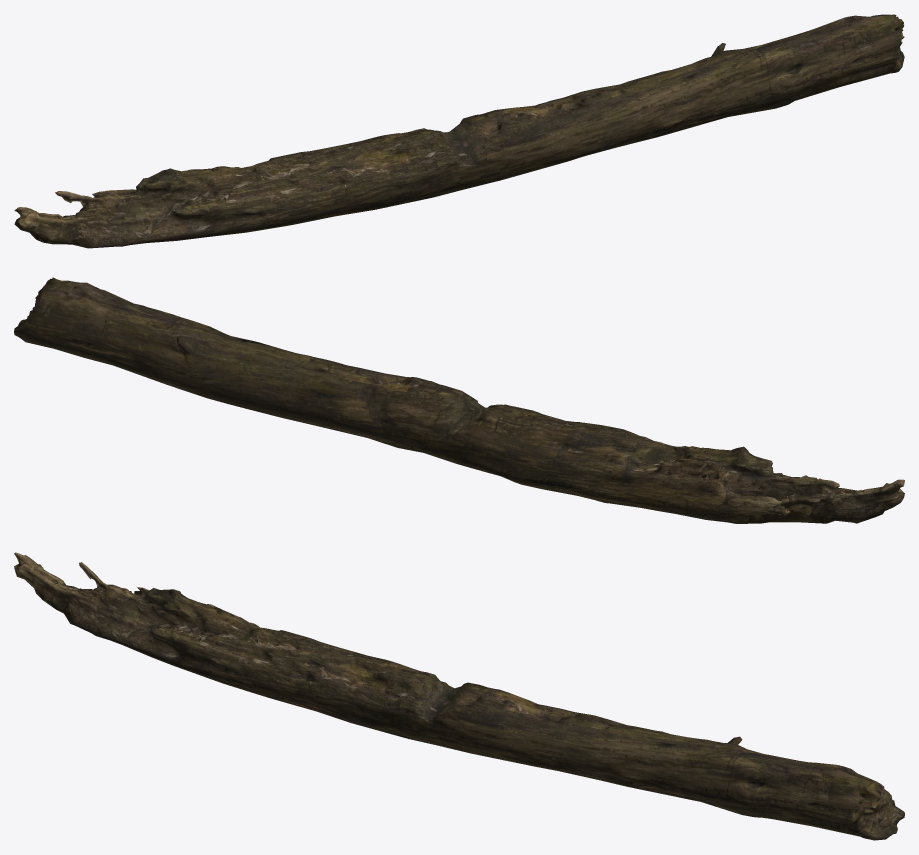
File: assets__ph__dead_tree_trunk.glb
3 renders of one model, top to bottom at view 1: azimuth 30°, elevation 25°; view 2: azimuth 150°, elevation 25°; view 3: azimuth 330°, elevation 25°, orthographic.
Visible parts, largest first — view 1: dead_tree_trunk; view 2: dead_tree_trunk; view 3: dead_tree_trunk.
Part boxes in pixels (box(x1,y1,x2,y2)): dead_tree_trunk: box(14, 14, 904, 248); dead_tree_trunk: box(14, 277, 904, 523); dead_tree_trunk: box(14, 552, 904, 840).
Bounding box in the file's own units: 3.05 × 0.2898 × 0.2773.
Materials: 1 (1 with a texture image).
